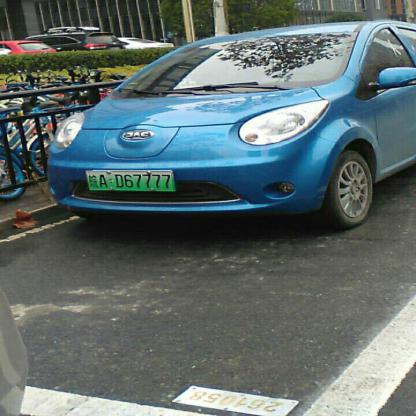lp: (85, 170, 174, 191)
